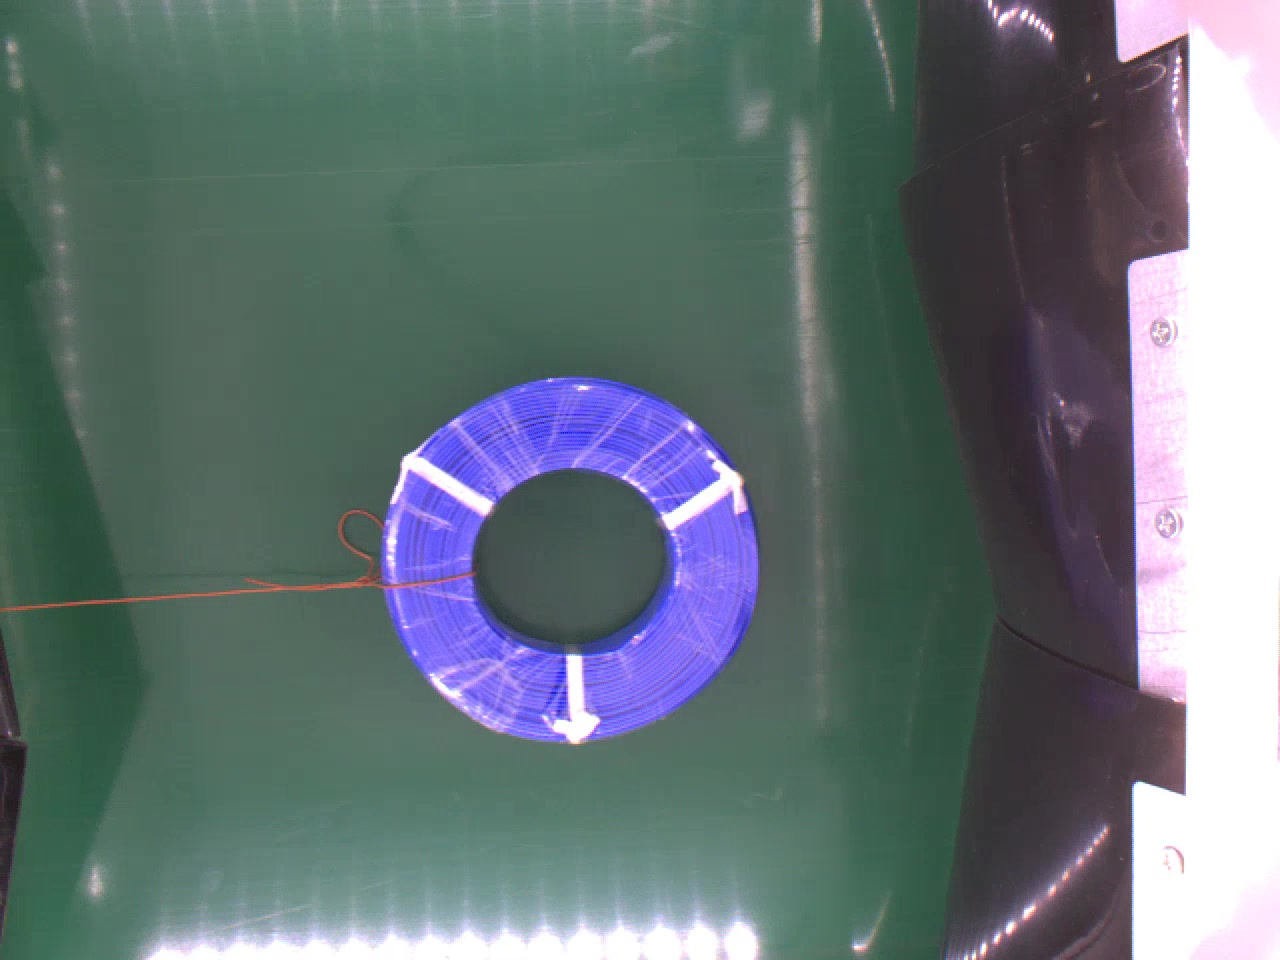blue: (378, 376, 763, 743)
